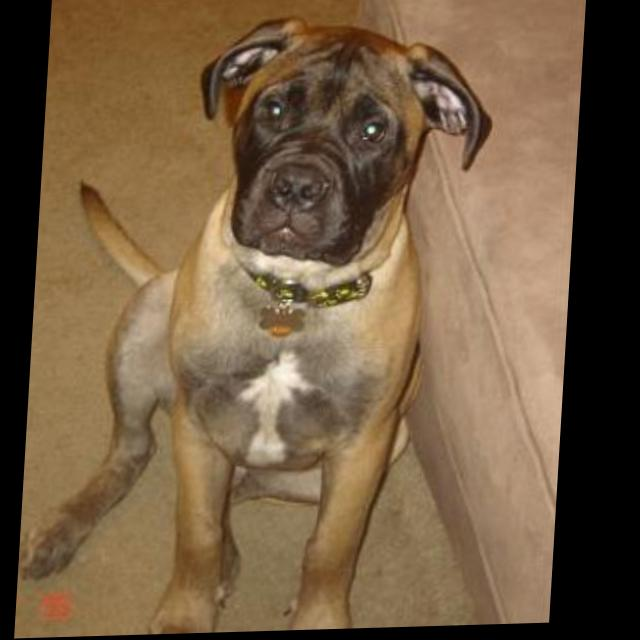bullmastiff: (24, 13, 503, 640)
